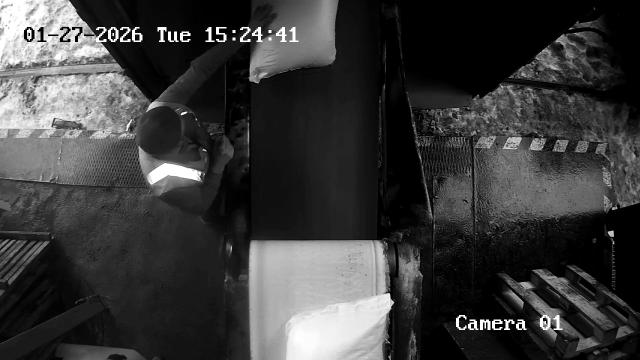bag: (250, 0, 339, 84), (286, 293, 394, 360)
